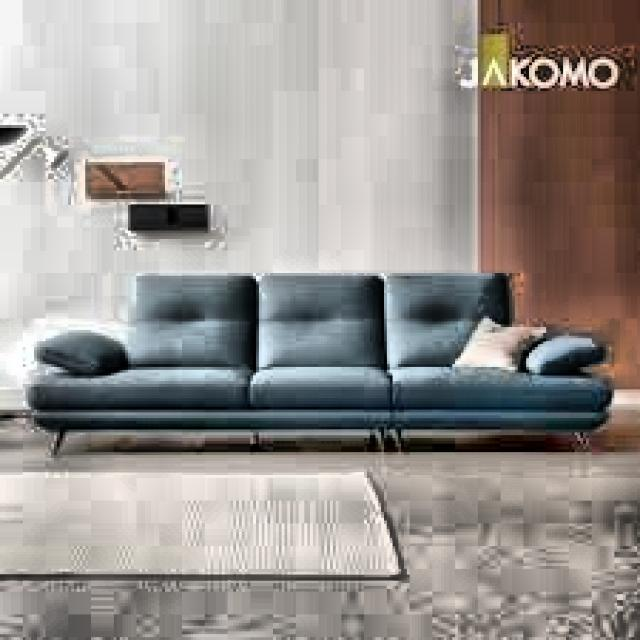sofa: (31, 270, 640, 450)
